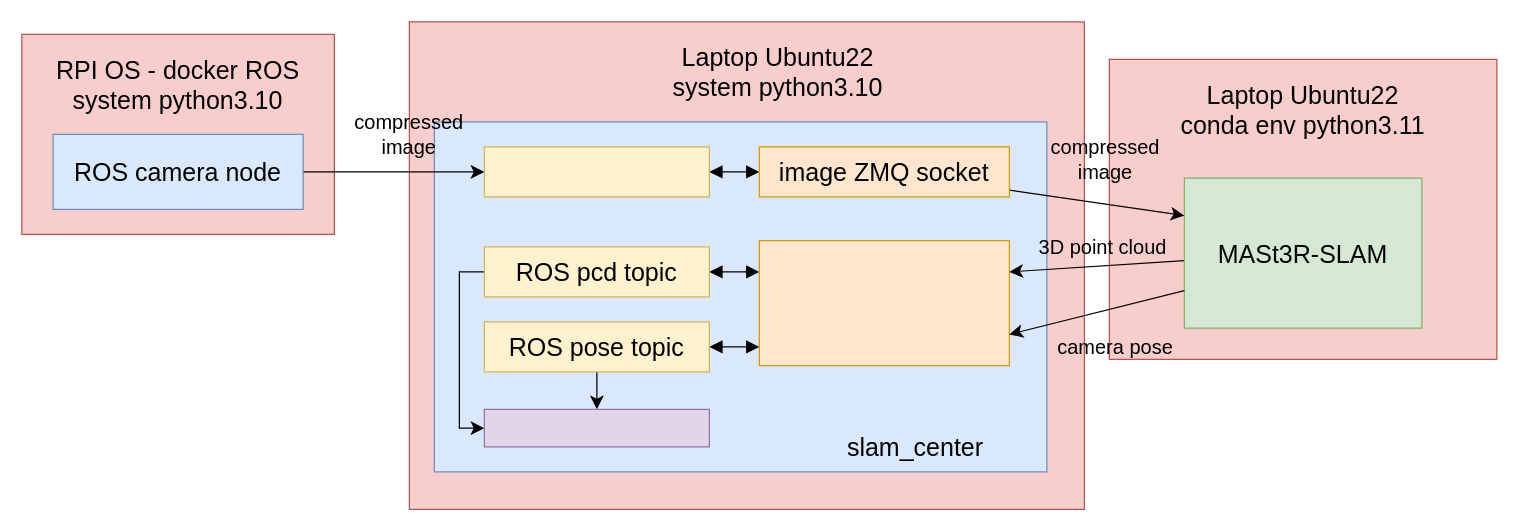
The diagram is 1519 pixels wide and 531 high, and some of its shapes have lost their labels. Each missing label, with the box of its shape:
result ZMQ socket: (758, 239, 1009, 366)
ROS image topic: (483, 146, 709, 197)
Rviz: (483, 408, 709, 447)
